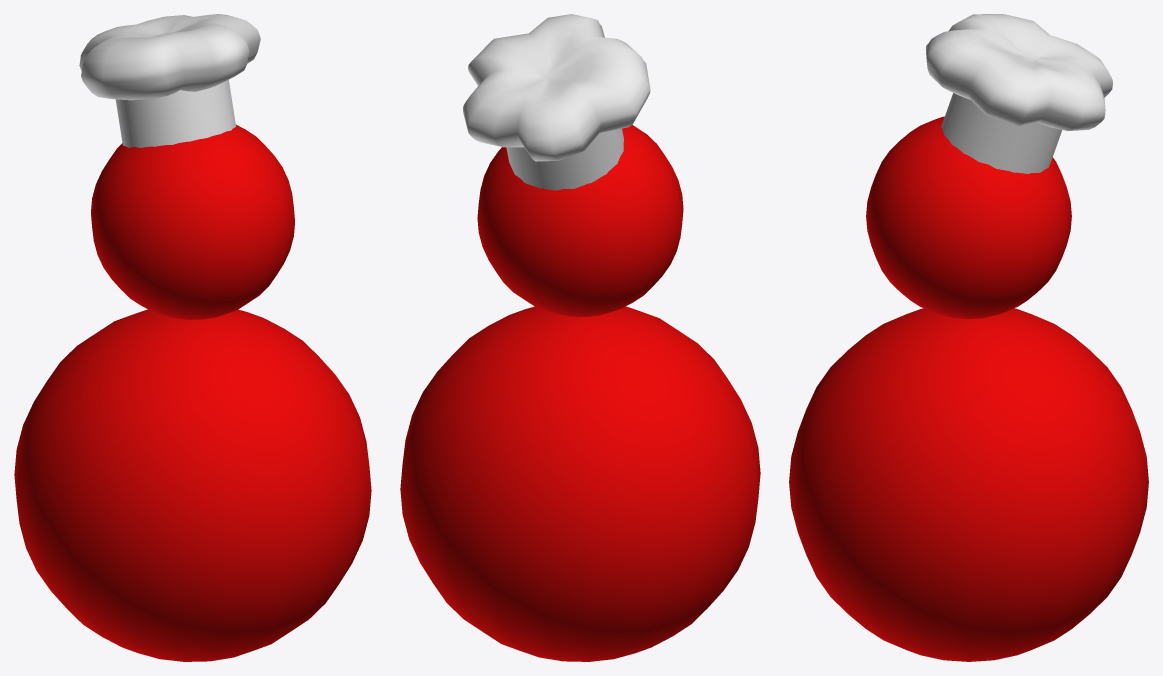
Rendered from chef.fbx.
3 renders of one model, left to right at view 1: azimuth 30°, elevation 25°; view 2: azimuth 150°, elevation 25°; view 3: azimuth 270°, elevation 25°, orthographic.
Parts seen in each view (by area): view 1: body, hat1; view 2: body, hat1; view 3: body, hat1.
Boxes of the visible parts, box(x1,y1,x2,y2) form: body: box(14, 124, 371, 661); hat1: box(79, 14, 260, 147); body: box(400, 125, 760, 661); hat1: box(463, 14, 650, 190); body: box(789, 116, 1148, 661); hat1: box(926, 14, 1112, 173).
Size of the model in its own units: 100 by 189 by 100.
